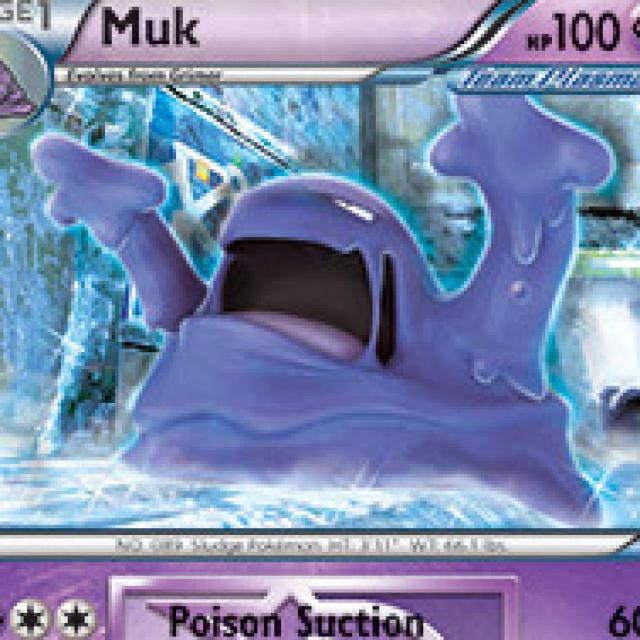Muk: (115, 176, 544, 479)
